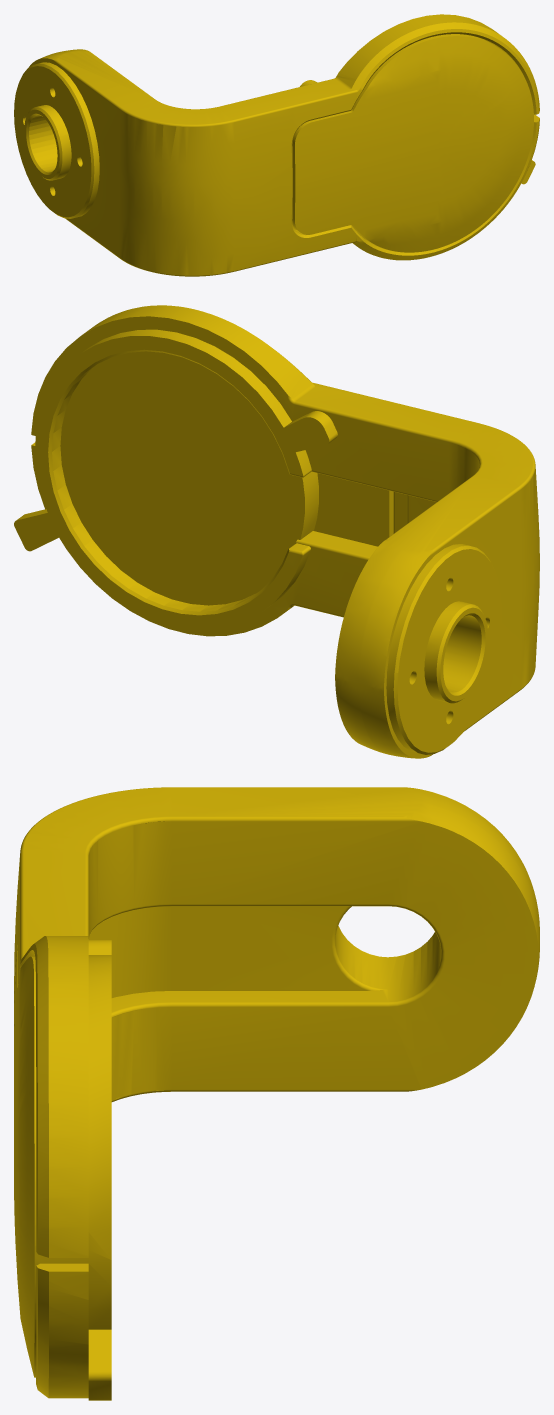
File: arml7.glb
3 renders of one model, top to bottom at view 1: azimuth 30°, elevation 25°; view 2: azimuth 150°, elevation 25°; view 3: azimuth 270°, elevation 25°, orthographic. The views are drawn at different scales.
Visible parts, largest first — view 1: left_j7; view 2: left_j7; view 3: left_j7.
Boxes of the visible parts, bbox=[...] form: left_j7: bbox=[14, 14, 539, 276]; left_j7: bbox=[14, 305, 539, 758]; left_j7: bbox=[14, 787, 539, 1400].
Size of the model in its own units: 0.1133 by 0.061 by 0.0694.
